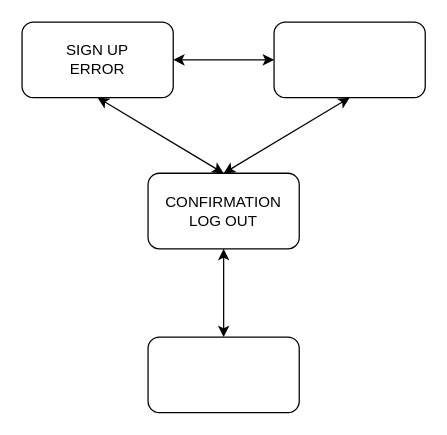
This 447x435 diagram has some shape labels left out. Each missing label, with the box of its shape:
CHAT VIEW RETURN LOG OUT: (147, 336, 299, 413)
LOG IN ERROR: (273, 21, 425, 98)
